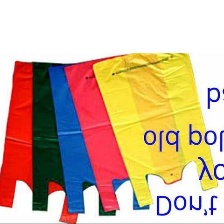plastic_bag: (89, 52, 220, 209), (61, 54, 185, 214), (43, 57, 157, 219), (26, 59, 126, 219), (0, 58, 89, 223)
